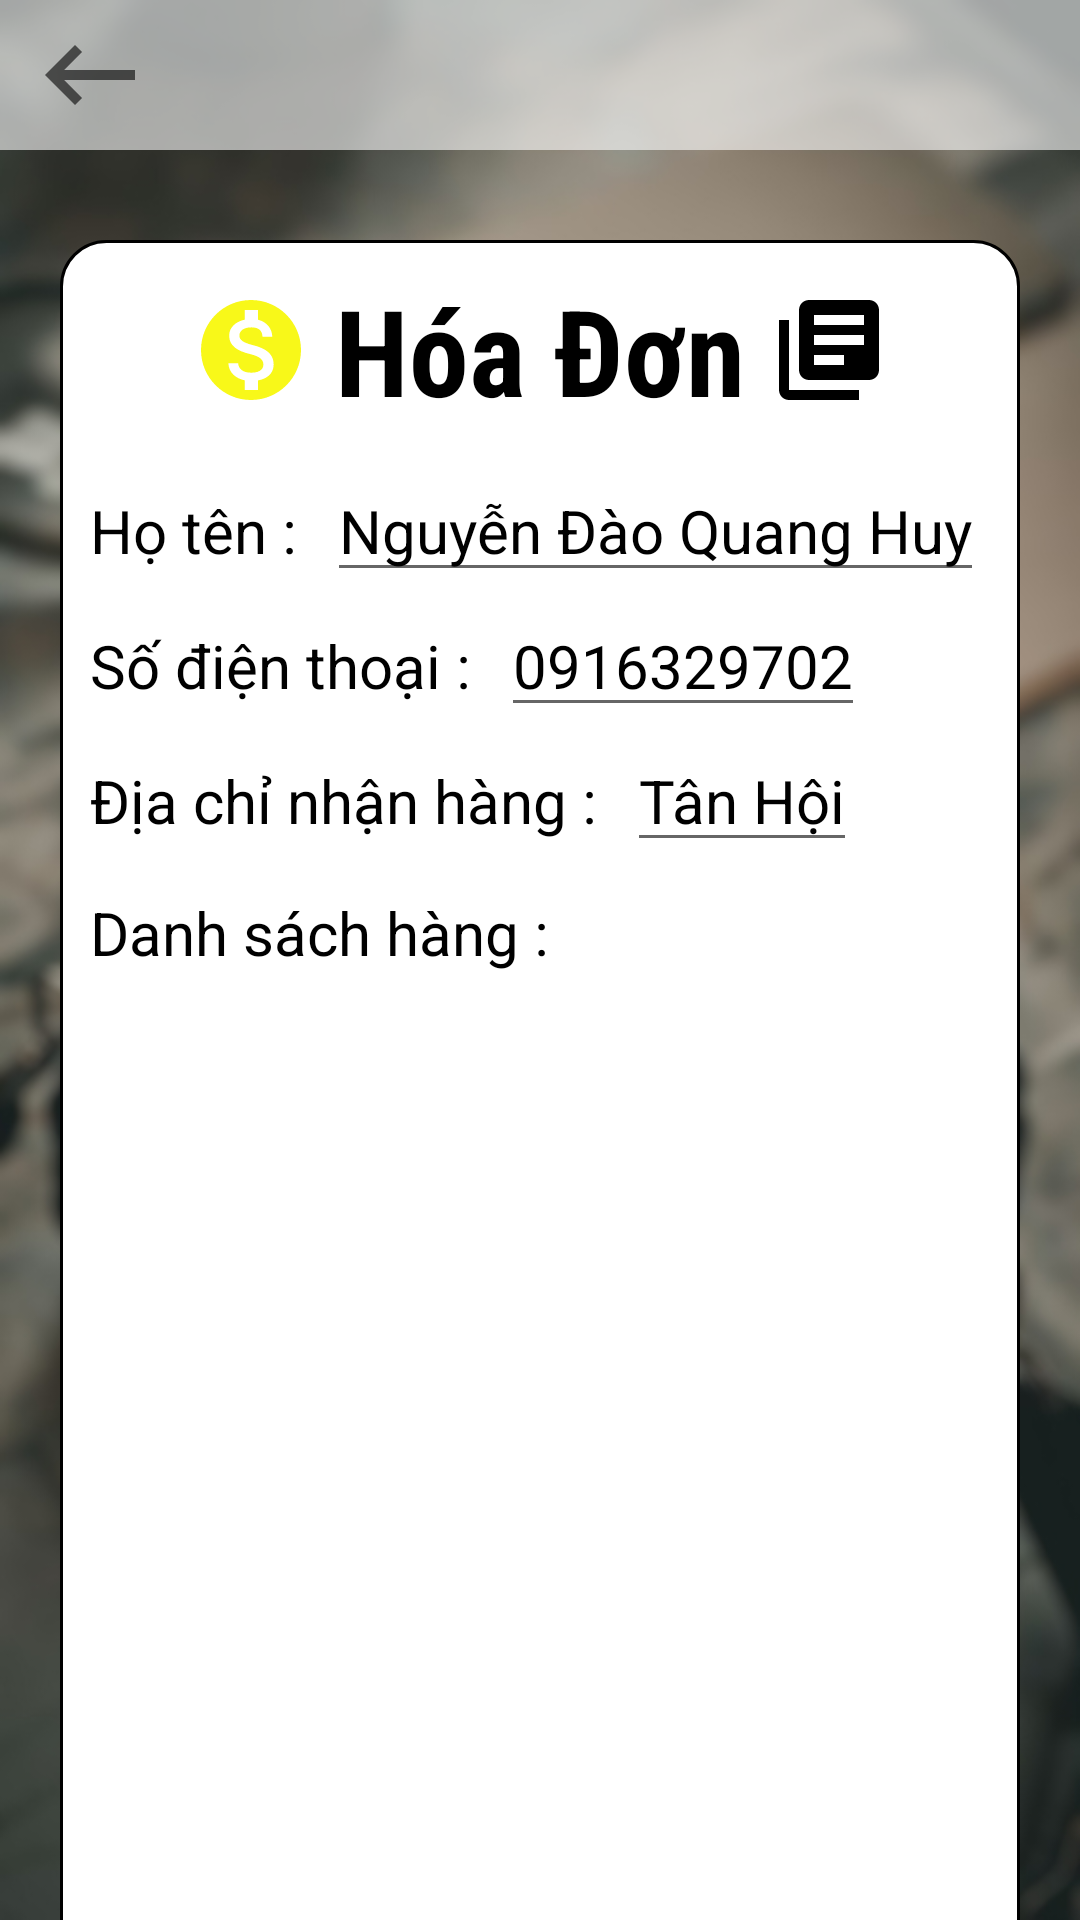

Icons on this 1080×1920 Android screen, each with its box as bbox=(x1, y1, x2, y2):
back: bbox=(45, 45, 135, 105)
